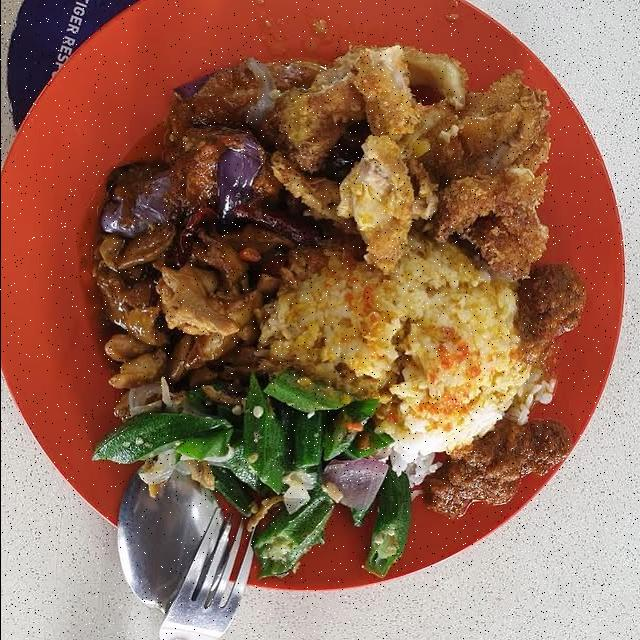Green veg: (94, 373, 410, 577)
Non green veg: (100, 127, 319, 239)
Pork: (271, 45, 550, 279)
Rice: (259, 240, 530, 483)
